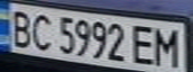2: (106, 19, 130, 64)
5: (54, 13, 75, 55)
9: (87, 18, 109, 61), (72, 16, 93, 57)
B: (3, 7, 36, 48)
C: (27, 10, 57, 52)
E: (127, 23, 160, 66)
M: (151, 25, 187, 69)
